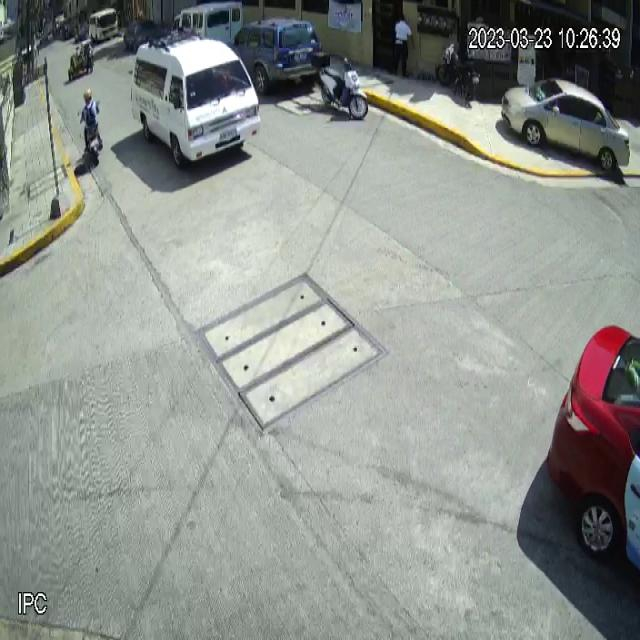Car: (501, 76, 631, 171), (219, 15, 325, 94)
Motorcycle: (312, 48, 369, 120)
Van: (130, 30, 262, 170)
